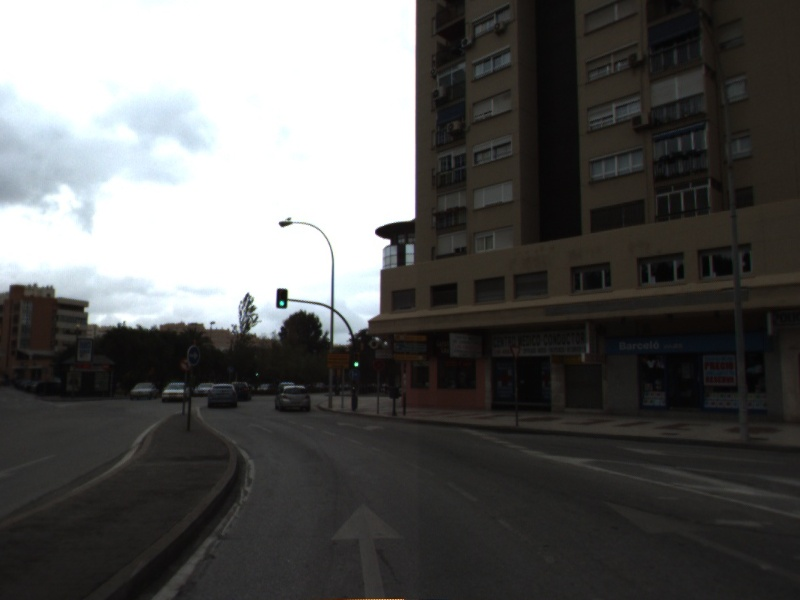STRAIGHT: (599, 498, 800, 587), (326, 498, 410, 600)
STRAIGHT_RIGHT: (334, 419, 387, 433)
